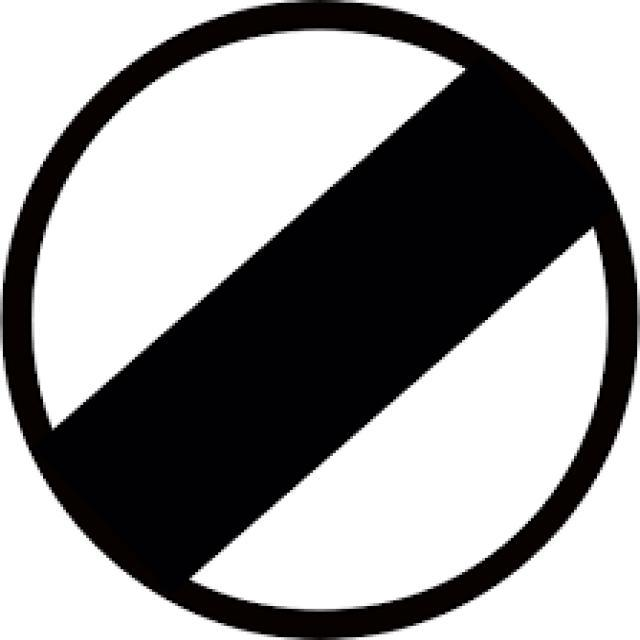restriction ends: (24, 26, 616, 621)
